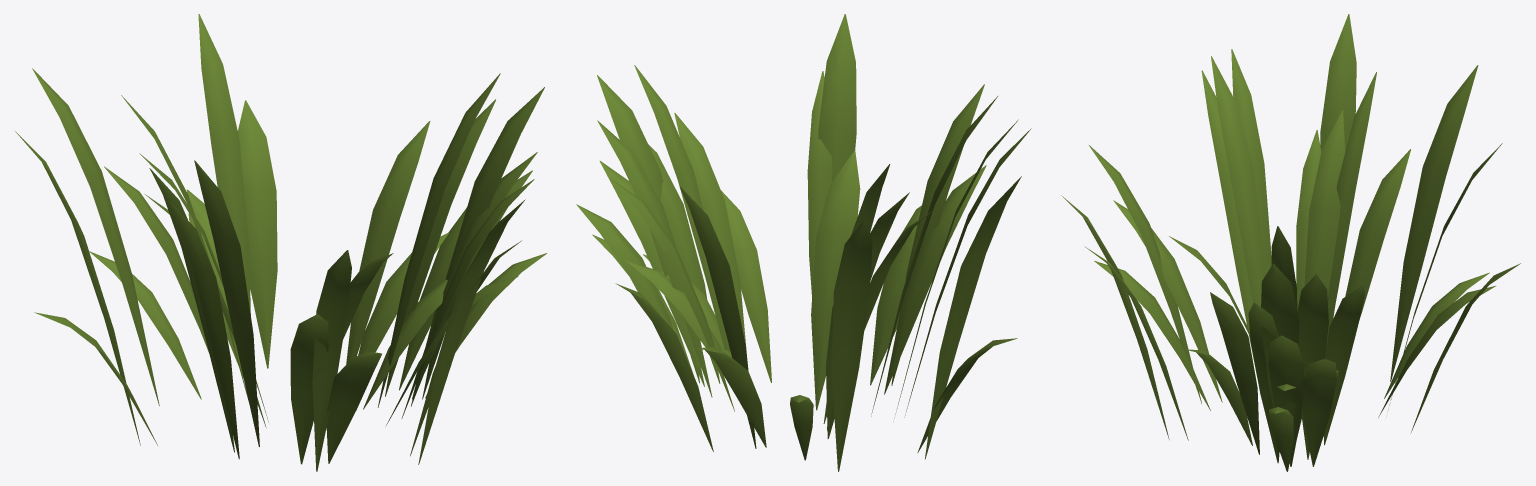
File: Grass_clump.glb
3 renders of one model, left to right at view 1: azimuth 30°, elevation 25°; view 2: azimuth 150°, elevation 25°; view 3: azimuth 270°, elevation 25°, orthographic. The views are drawn at different scales.
Parts seen in each view (by area): view 1: Grass_clump; view 2: Grass_clump; view 3: Grass_clump.
Part boxes in pixels (left/top/right/bottom): Grass_clump: left=15, top=14, right=547, bottom=471; Grass_clump: left=576, top=14, right=1031, bottom=471; Grass_clump: left=1061, top=14, right=1520, bottom=471.
Bounding box in the file's own units: 0.9767 × 0.639 × 0.8973.
